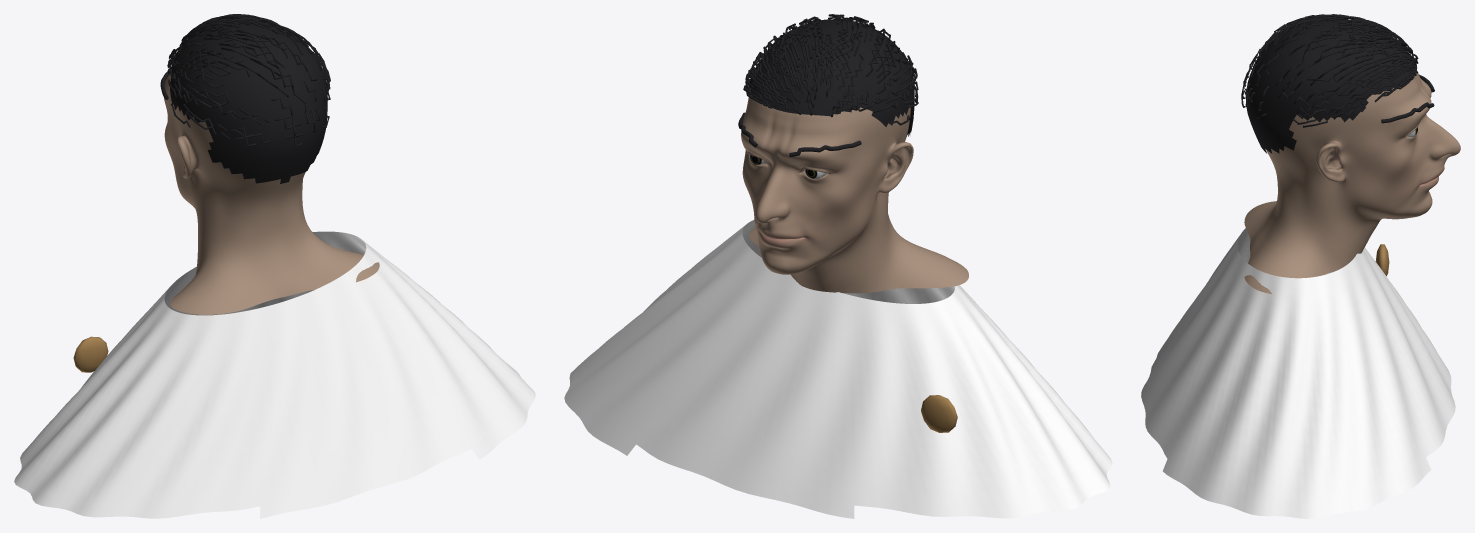
File: envoy_005.glb
The picture shows the model from 3 angles, left to right: view 1: azimuth 30°, elevation 25°; view 2: azimuth 150°, elevation 25°; view 3: azimuth 270°, elevation 25°; orthographic projection. The views are drawn at different scales.
Parts seen in each view (by area): view 1: Folded shoulder mantle, Envoy 005 body, Envoy 005 fitted scalp, Shoulder clasp; view 2: Folded shoulder mantle, Envoy 005 body, Envoy 005 fitted scalp, Shoulder clasp; view 3: Folded shoulder mantle, Envoy 005 body, Envoy 005 fitted scalp.
Part boxes in pixels (x1,y1,x2,y2): Folded shoulder mantle: [14, 231, 535, 518]; Envoy 005 body: [164, 69, 379, 314]; Envoy 005 fitted scalp: [170, 19, 327, 183]; Shoulder clasp: [73, 336, 108, 372]; Folded shoulder mantle: [564, 220, 1112, 518]; Envoy 005 body: [741, 95, 968, 293]; Envoy 005 fitted scalp: [748, 19, 914, 136]; Shoulder clasp: [921, 395, 957, 432]; Folded shoulder mantle: [1141, 228, 1455, 518]; Envoy 005 body: [1244, 73, 1460, 293]; Envoy 005 fitted scalp: [1245, 19, 1417, 153].
Size of the model in its own units: 0.3152 by 0.2462 by 0.1862.
